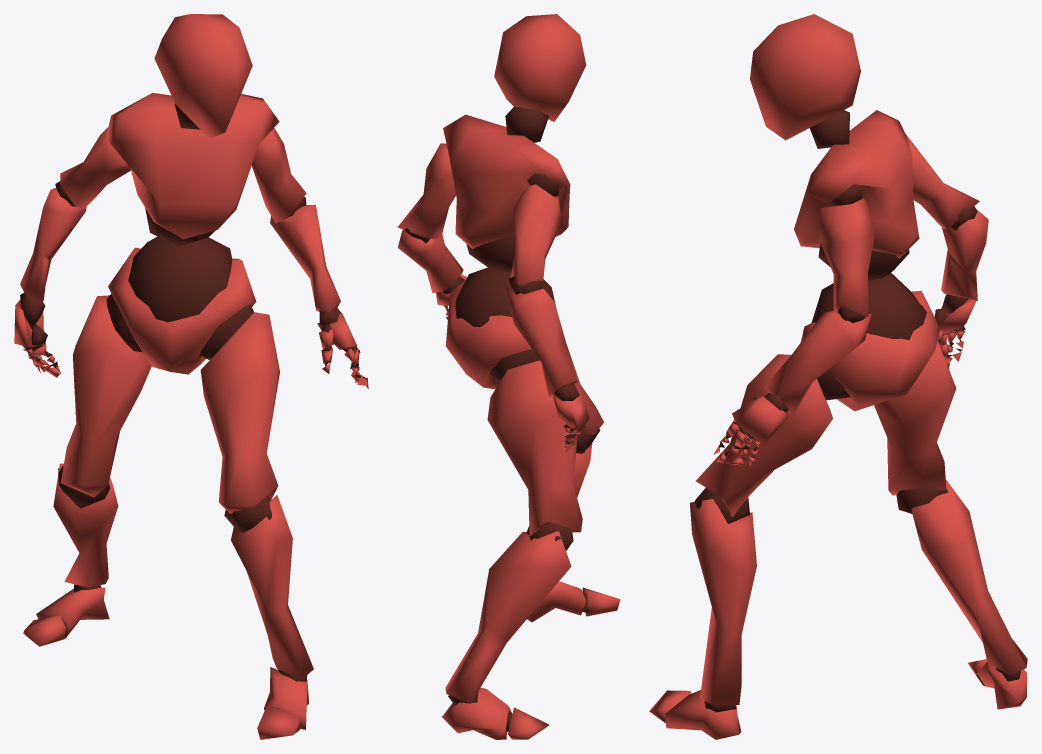
3 views of the same model, side by side, from view 1: azimuth 30°, elevation 25°; view 2: azimuth 150°, elevation 25°; view 3: azimuth 270°, elevation 25° (orthographic). The views are drawn at different scales.
Parts seen in each view (by area): view 1: Beta_Surface; view 2: Beta_Surface; view 3: Beta_Surface.
Part boxes in pixels (x1=…): Beta_Surface: x1=14, y1=14, x2=368, y2=739; Beta_Surface: x1=397, y1=14, x2=620, y2=739; Beta_Surface: x1=649, y1=14, x2=1027, y2=739.
Size of the model in its own units: 5.55 by 14.58 by 7.2.
